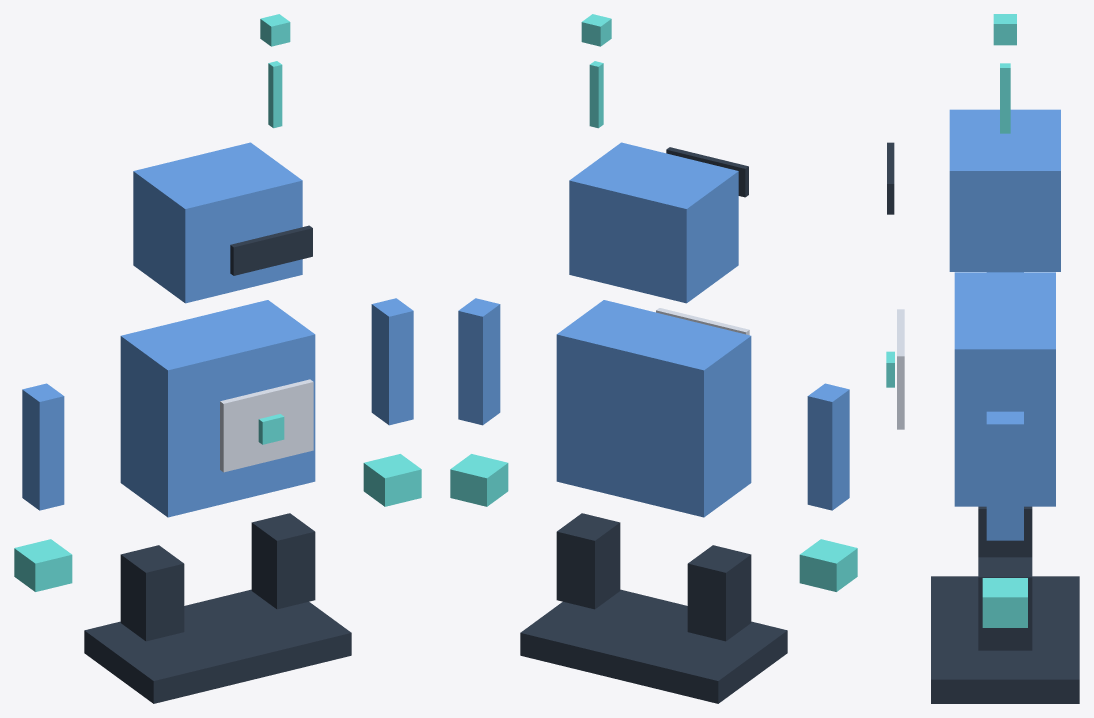
The model's file is ev-demo-robot.glb.
3 views of the same model, side by side, from view 1: azimuth 30°, elevation 25°; view 2: azimuth 150°, elevation 25°; view 3: azimuth 270°, elevation 25° (orthographic). The views are drawn at different scales.
Parts seen in each view (by area): view 1: Body, Head, Base, Chest, Right leg, Left leg, Right arm, Left arm, Visor, Right hand, Left hand, Antenna (+2 smaller); view 2: Body, Head, Base, Right leg, Left leg, Right arm, Left arm, Right hand, Left hand, Antenna, Visor, Antenna light; view 3: Body, Head, Base, Right arm, Right leg, Right hand, Left leg, Chest, Antenna, Antenna light, Visor, Core.
Boxes of the visible parts, <box> form: Body: <box>120,300,315,517</box>; Head: <box>133,142,302,303</box>; Base: <box>84,589,351,703</box>; Chest: <box>220,379,313,472</box>; Right leg: <box>251,513,315,609</box>; Left leg: <box>120,545,184,641</box>; Right arm: <box>371,298,413,425</box>; Left arm: <box>22,383,64,510</box>; Visor: <box>230,225,312,275</box>; Right hand: <box>363,454,421,506</box>; Left hand: <box>14,539,72,591</box>; Antenna: <box>268,61,282,128</box>; Body: <box>556,300,751,517</box>; Head: <box>569,142,738,303</box>; Base: <box>520,589,787,703</box>; Right leg: <box>556,513,620,609</box>; Left leg: <box>687,545,751,641</box>; Right arm: <box>458,298,500,425</box>; Left arm: <box>807,383,849,510</box>; Right hand: <box>450,454,508,506</box>; Left hand: <box>799,539,857,591</box>; Antenna: <box>589,61,603,128</box>; Visor: <box>666,147,748,197</box>; Antenna light: <box>581,14,611,46</box>; Body: <box>954,272,1055,506</box>; Head: <box>949,109,1060,271</box>; Base: <box>931,576,1079,703</box>; Right arm: <box>986,411,1023,540</box>; Right leg: <box>978,557,1032,650</box>; Right hand: <box>982,578,1027,627</box>; Left leg: <box>978,506,1032,557</box>; Chest: <box>897,309,904,429</box>; Antenna: <box>1000,63,1010,133</box>; Antenna light: <box>993,14,1016,45</box>; Visor: <box>887,142,894,214</box>; Core: <box>886,351,894,387</box>.
Size of the model in its own units: 2.83 by 4.34 by 1.15.
